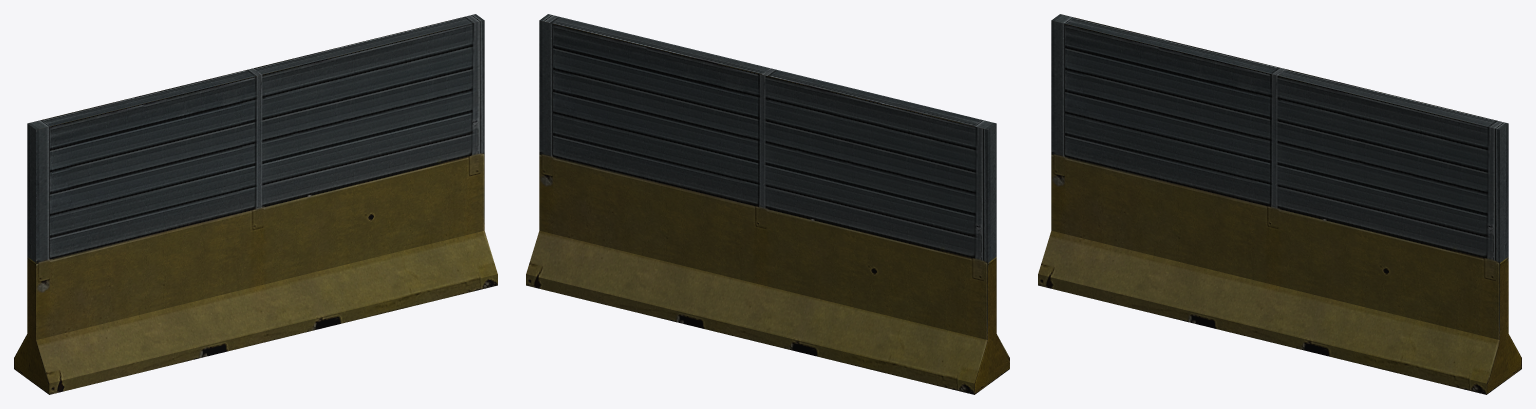
The model's file is barricade_a_3.obj.
3 renders of one model, left to right at view 1: azimuth 30°, elevation 25°; view 2: azimuth 150°, elevation 25°; view 3: azimuth 330°, elevation 25°, orthographic.
Parts seen in each view (by area): view 1: barricade_a_3; view 2: barricade_a_3; view 3: barricade_a_3.
Boxes of the visible parts, <box> form: barricade_a_3: <box>14,14,497,394</box>; barricade_a_3: <box>526,14,1009,394</box>; barricade_a_3: <box>1038,14,1521,394</box>.
Size of the model in its own units: 2.94 by 1.6 by 0.4.
